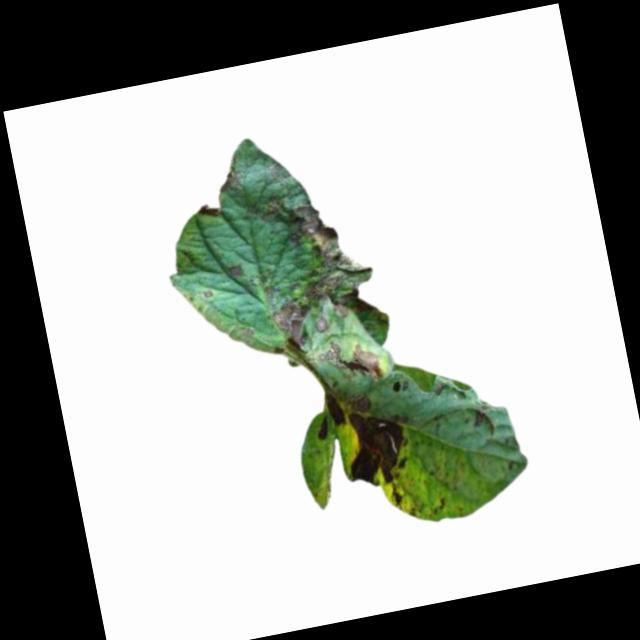Early_blight: (249, 180, 392, 353), (336, 400, 420, 493), (315, 332, 384, 393), (309, 389, 351, 442), (388, 481, 407, 509), (198, 200, 223, 218), (228, 261, 247, 276)
